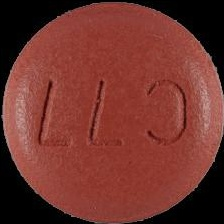54868-6250: (0, 0, 224, 224)
